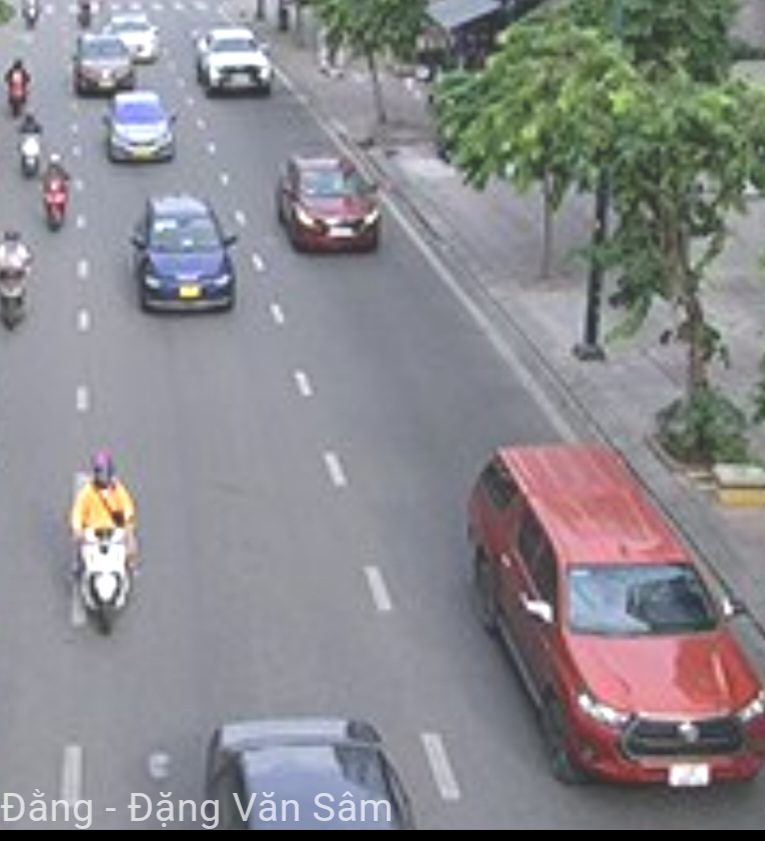car: (473, 446, 762, 787), (134, 193, 236, 317), (275, 149, 383, 256), (196, 29, 275, 97), (106, 91, 175, 165), (73, 35, 133, 97)
